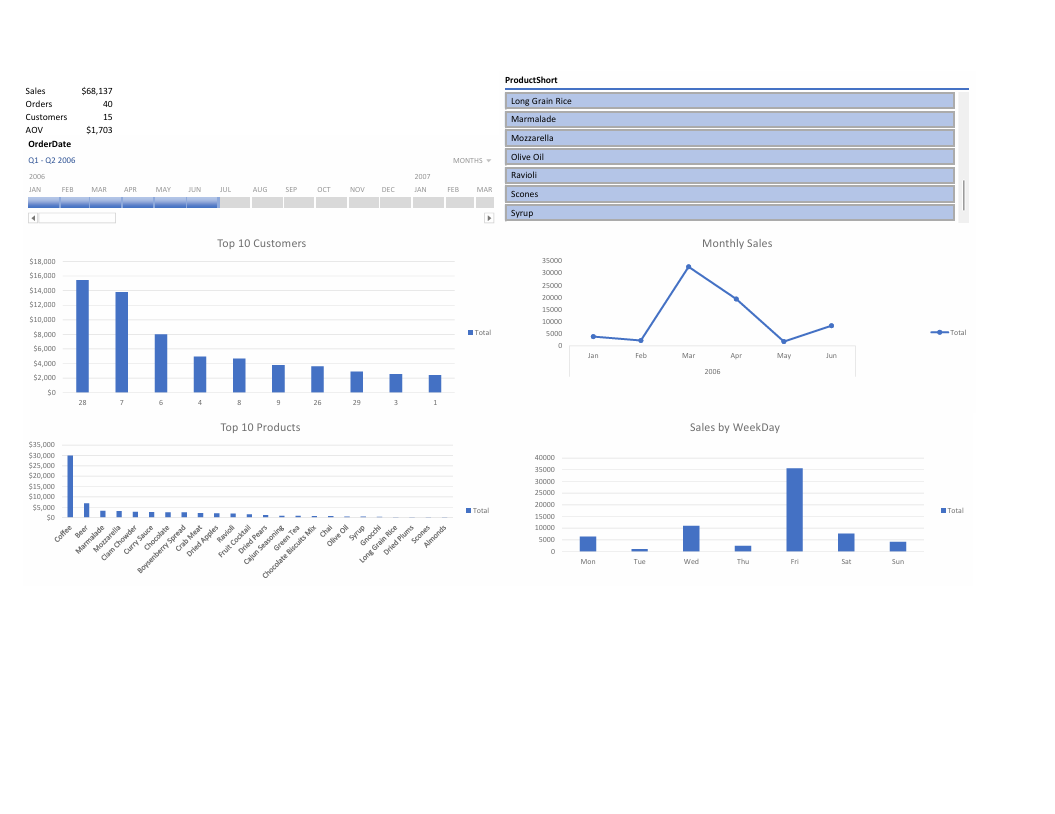

The dashboard page shown, as its layout file describes it:
{"tool":"powerbi","page":{"name":"Page 1","canvas":[1280,720],"ordinal":0},"visuals":[{"type":"card","title":"Sales","fields":{"Values":["Date.Sales"]},"box":[0,0,220,130],"z":0},{"type":"card","title":"Orders","fields":{"Values":["Date.Orders"]},"box":[700,0,220.7,130],"z":1000},{"type":"card","title":"Customers","fields":{"Values":["Date.Customers"]},"box":[1059.3,0,220.7,130],"z":2000},{"type":"card","title":"AOV","fields":{"Values":["Date.AOV"]},"box":[350,0,220,130],"z":3000},{"type":"slicer","title":"Monthly Sales","fields":{"Values":["Date.Date"]},"box":[2,138,1278,106],"z":4000},{"type":"slicer","fields":{"Values":["OrderLines.ProductName"]},"box":[0,244,1280,90],"z":5000},{"type":"lineChart","fields":{"Category":["Date.YearMonth"],"Y":["Date.Sales"],"Series":["Date.Year"]},"box":[428,334,428,386],"z":6000},{"type":"clusteredBarChart","title":"Top 10 Products","fields":{"Category":["OrderLines.ProductName"],"Y":["Date.Sales"]},"box":[854,334,426,386],"z":7000},{"type":"clusteredBarChart","title":"Top 10 Customers","fields":{"Y":["Date.Sales"],"Category":["OrderLines.CustomerID_Text"]},"box":[0,333.6,428,386.1],"z":8000}]}

Visuals, with their boxes on the page's 1280x720 design canvas (x1, y1, x2, y2). These are canvas units, not pixel positions in the 1055x814 screenshot, which may show the page scaled, cropped or inside an application window:
"Sales" card: 0,0,220,130
"Orders" card: 700,0,921,130
"Customers" card: 1059,0,1280,130
"AOV" card: 350,0,570,130
"Monthly Sales" slicer: 2,138,1280,244
slicer - OrderLines.ProductName: 0,244,1280,334
lineChart - Date.YearMonth x Date.Sales: 428,334,856,720
"Top 10 Products" clusteredBarChart: 854,334,1280,720
"Top 10 Customers" clusteredBarChart: 0,334,428,720
